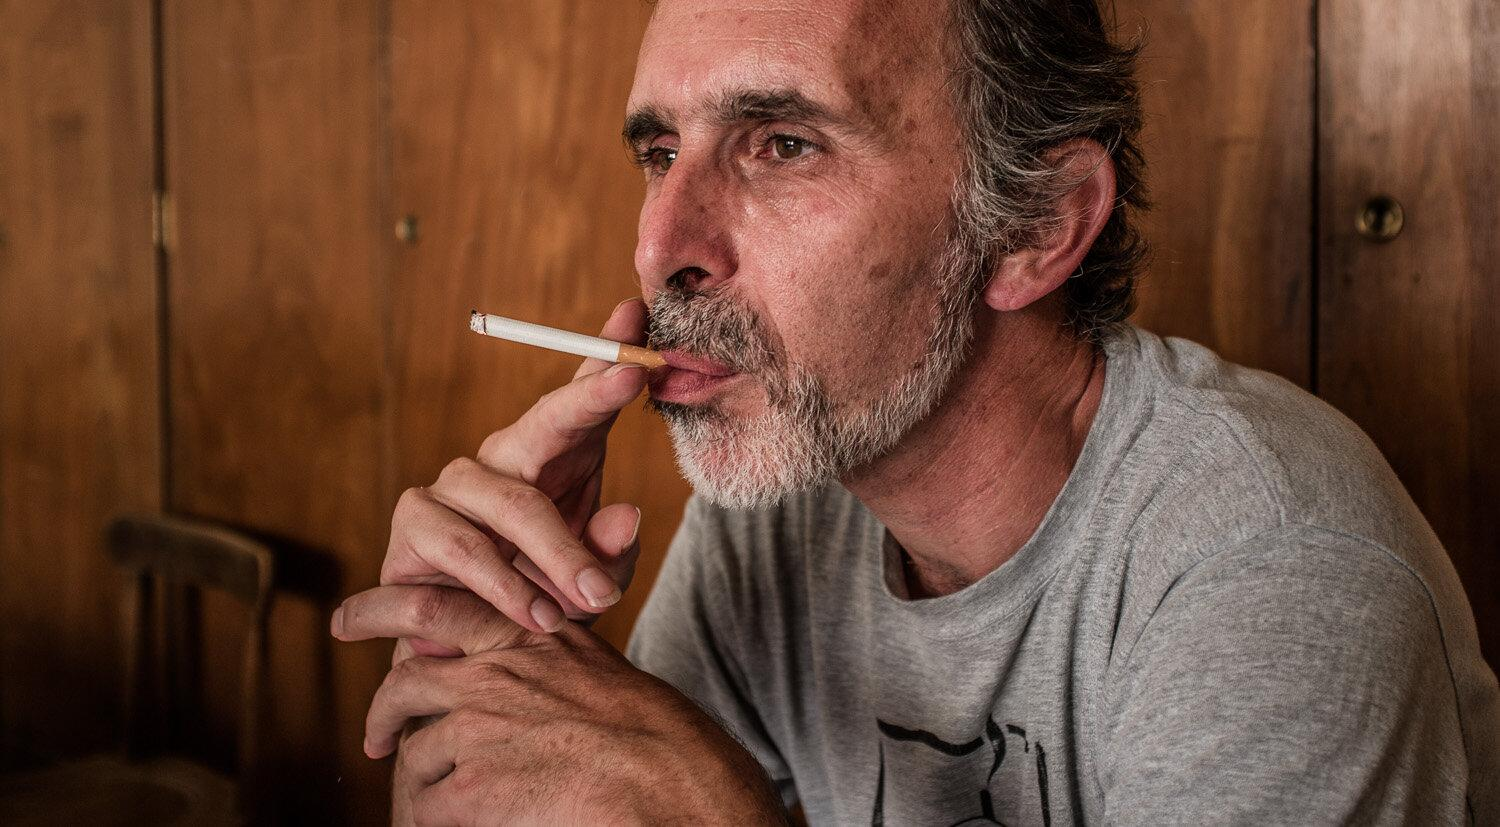cigarette: (470, 312, 667, 369)
